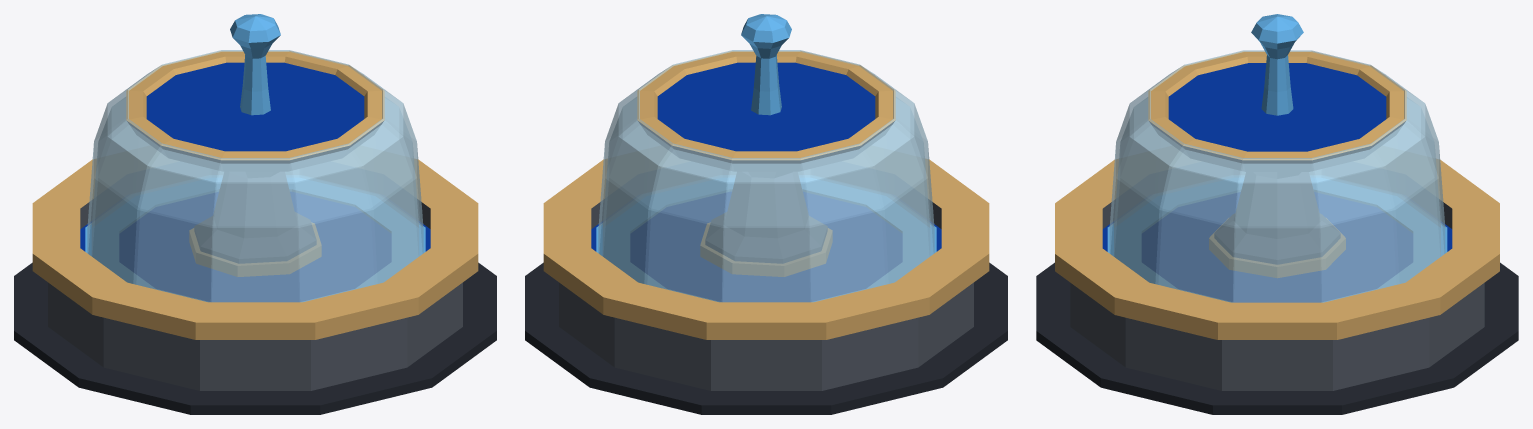
The model's file is fountain.glb.
The picture shows the model from 3 angles, left to right: view 1: azimuth 30°, elevation 25°; view 2: azimuth 150°, elevation 25°; view 3: azimuth 270°, elevation 25°; orthographic projection.
Visible parts, largest first — view 1: SM_Fountain, SM_Fountain_water; view 2: SM_Fountain, SM_Fountain_water; view 3: SM_Fountain, SM_Fountain_water.
Boxes of the visible parts, x1=… form: SM_Fountain: x1=14, y1=14, x2=496, y2=414; SM_Fountain_water: x1=87, y1=50, x2=423, y2=302; SM_Fountain: x1=525, y1=14, x2=1007, y2=414; SM_Fountain_water: x1=598, y1=50, x2=934, y2=302; SM_Fountain: x1=1036, y1=14, x2=1518, y2=414; SM_Fountain_water: x1=1109, y1=50, x2=1445, y2=302.
Bounding box in the file's own units: 2.74 × 1.86 × 2.74.
2 materials, 1 textured.
